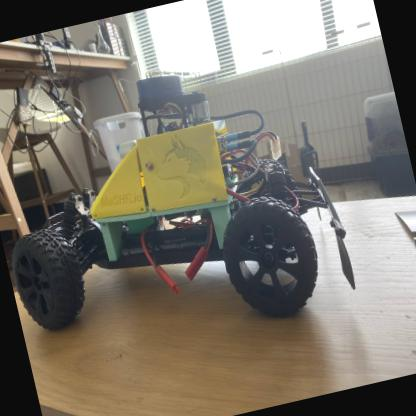mushr_car: (0, 27, 368, 389)
